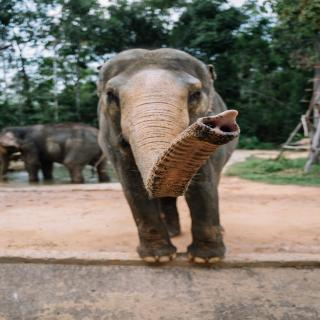Elephant: (89, 44, 258, 278)
